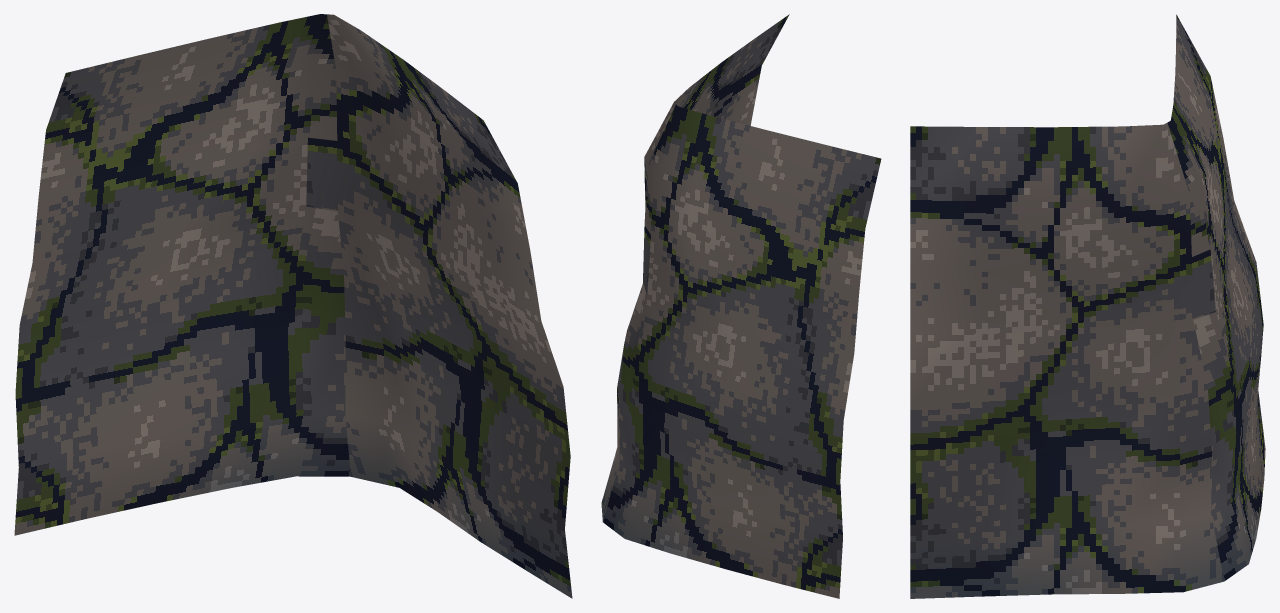
The model's file is cave.wall__corner.glb.
3 views of the same model, side by side, from view 1: azimuth 30°, elevation 25°; view 2: azimuth 150°, elevation 25°; view 3: azimuth 270°, elevation 25° (orthographic). The views are drawn at different scales.
Visible parts, largest first — view 1: kit_shell_rock; view 2: kit_shell_rock; view 3: kit_shell_rock.
Part boxes in pixels (<box>): kit_shell_rock: <box>14,14,572,598</box>; kit_shell_rock: <box>601,14,881,598</box>; kit_shell_rock: <box>910,14,1265,598</box>.
Size of the model in its own units: 3.7 by 5 by 3.7.
Materials: 1 (1 with a texture image).
